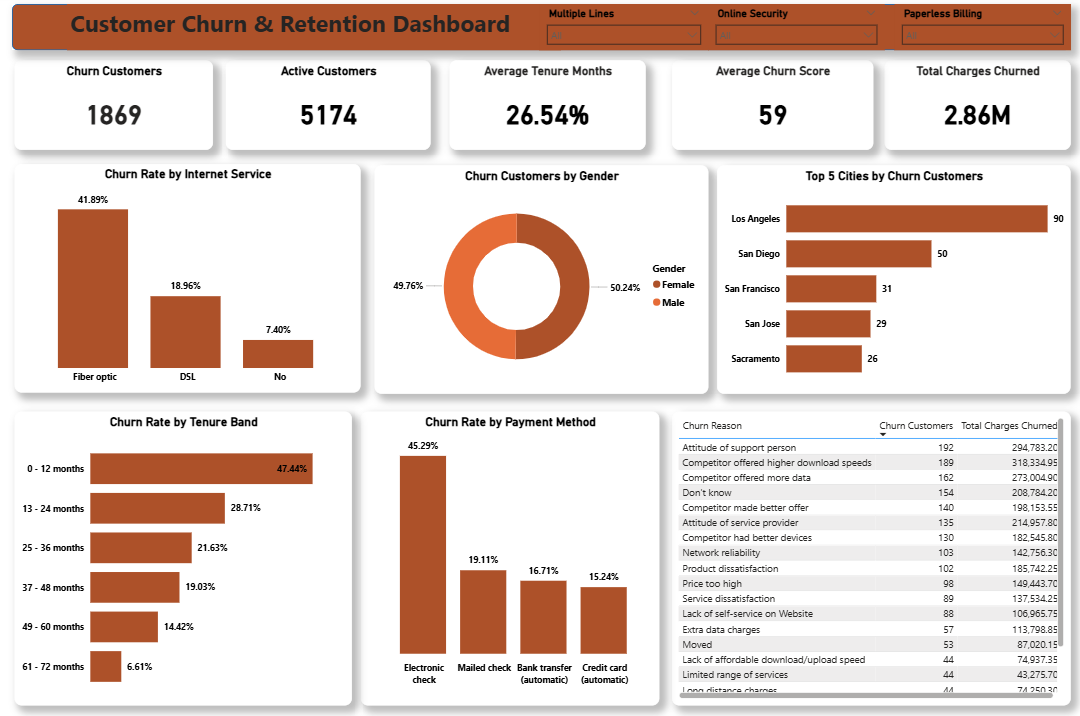

Layout of this report page (visuals, bound fields, positions):
{"tool":"powerbi","page":{"name":"Customer Churn & Retention","canvas":[1500,1000],"ordinal":1},"visuals":[{"type":"card","title":"Churn Customers","fields":{"Values":["Measure Table.Churn Customers"]},"box":[24.2,91.6,274.7,124.4],"z":1000},{"type":"card","title":"Active Customers","fields":{"Values":["Measure Table.Retained Customers"]},"box":[316.2,91.6,283.3,124.4],"z":2000},{"type":"card","title":"Total Charges Churned","fields":{"Values":["Measure Table.Total Charges Churned"]},"box":[1226.7,91.6,257.4,124.4],"z":3000},{"type":"card","title":"Average Churn Score","fields":{"Values":["Measure Table.Average Churn Score"]},"box":[933,91.6,278.2,124.4],"z":8000},{"type":"shape","box":[20.7,13.8,1463.4,63.9],"z":11000},{"type":"textbox","box":[96.8,13.8,682.5,63.9],"z":12000},{"type":"slicer","fields":{"Values":["Telco_Customer.Paperless Billing"]},"box":[1240.5,13.8,243.6,63.9],"z":13000},{"type":"slicer","fields":{"Values":["Telco_Customer.Online Security"]},"box":[983.1,13.8,243.6,63.9],"z":14000},{"type":"slicer","fields":{"Values":["Telco_Customer.Multiple Lines"]},"box":[749.8,13.8,233.2,63.9],"z":15000},{"type":"card","title":"Average Tenure Months","fields":{"Values":["Measure Table.Churn Rate"]},"box":[625.4,91.6,271.3,124.4],"z":15001},{"type":"clusteredColumnChart","fields":{"Category":["Telco_Customer.Internet Service"],"Y":["Measure Table.Churn Rate"]},"box":[24.2,235,478.6,316.2],"z":15002},{"type":"donutChart","fields":{"Category":["Telco_Customer.Gender"],"Y":["Measure Table.Churn Customers"]},"box":[521.8,236.7,461.3,316.2],"z":15003},{"type":"clusteredBarChart","title":"Top 5 Cities by Churn Customers","fields":{"Y":["Measure Table.Churn Customers"],"Category":["Telco_Customer.City"]},"box":[995.2,236.7,488.9,316.2],"z":15004},{"type":"tableEx","fields":{"Values":["Telco_Customer.Churn Reason","Measure Table.Churn Customers","Measure Table.Total Charges Churned"]},"box":[933,577.1,551.1,406],"z":15005},{"type":"clusteredColumnChart","fields":{"Category":["Telco_Customer.Payment Method"],"Y":["Measure Table.Churn Rate"]},"box":[502.8,577.1,412.9,406],"z":15006},{"type":"clusteredBarChart","fields":{"Category":["Telco_Customer.Tenure Band"],"Y":["Measure Table.Churn Rate"]},"box":[24.2,577.1,466.5,406],"z":15007}]}

Visuals, with their boxes in screenshot pixels (x1, y1, x2, y2), scaled from the page's 1500x1000 canvas onto the 1080x716 screenshot:
"Churn Customers" card: (left=17, top=66, right=215, bottom=155)
"Active Customers" card: (left=228, top=66, right=432, bottom=155)
"Total Charges Churned" card: (left=883, top=66, right=1069, bottom=155)
"Average Churn Score" card: (left=672, top=66, right=872, bottom=155)
shape: (left=15, top=10, right=1069, bottom=56)
textbox: (left=70, top=10, right=561, bottom=56)
slicer - Telco_Customer.Paperless Billing: (left=893, top=10, right=1069, bottom=56)
slicer - Telco_Customer.Online Security: (left=708, top=10, right=883, bottom=56)
slicer - Telco_Customer.Multiple Lines: (left=540, top=10, right=708, bottom=56)
"Average Tenure Months" card: (left=450, top=66, right=646, bottom=155)
clusteredColumnChart - Telco_Customer.Internet Service x Measure Table.Churn Rate: (left=17, top=168, right=362, bottom=395)
donutChart - Telco_Customer.Gender x Measure Table.Churn Customers: (left=376, top=169, right=708, bottom=396)
"Top 5 Cities by Churn Customers" clusteredBarChart: (left=717, top=169, right=1069, bottom=396)
tableEx - Telco_Customer.Churn Reason x Measure Table.Churn Customers: (left=672, top=413, right=1069, bottom=704)
clusteredColumnChart - Telco_Customer.Payment Method x Measure Table.Churn Rate: (left=362, top=413, right=659, bottom=704)
clusteredBarChart - Telco_Customer.Tenure Band x Measure Table.Churn Rate: (left=17, top=413, right=353, bottom=704)
